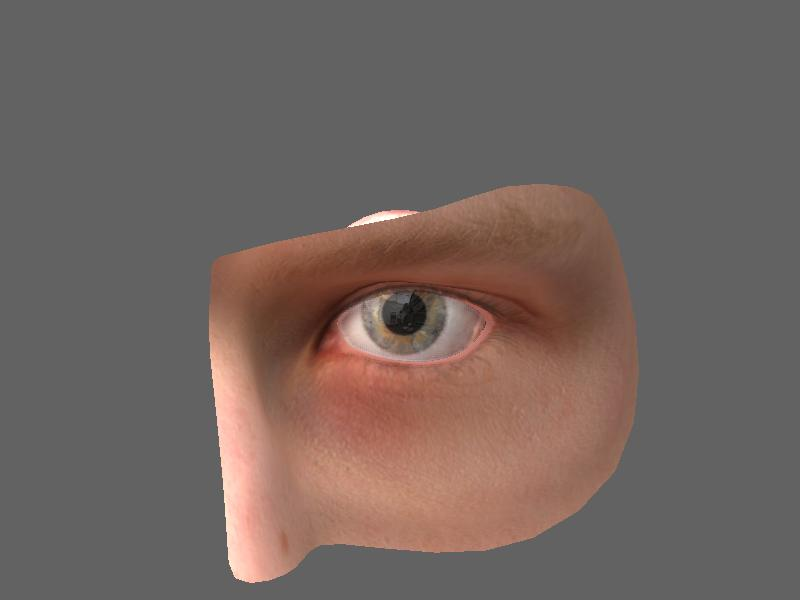iris: (356, 280, 450, 355)
